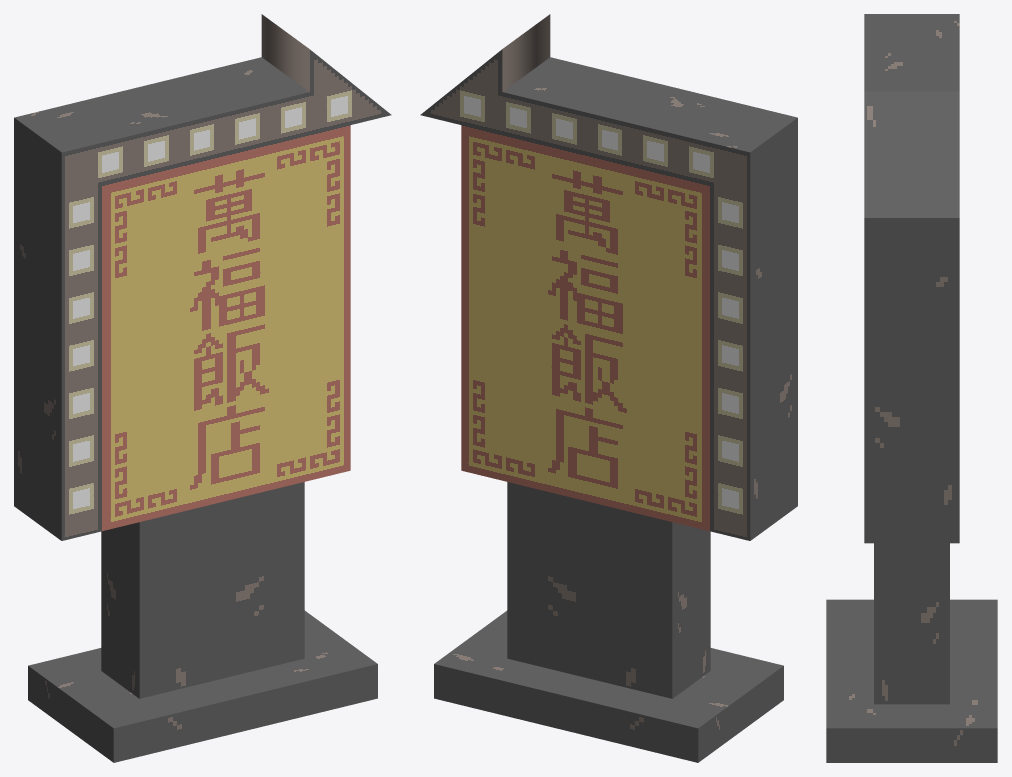
The model's file is 03c1_Ramen_Sign.glb.
The picture shows the model from 3 angles, left to right: view 1: azimuth 30°, elevation 25°; view 2: azimuth 150°, elevation 25°; view 3: azimuth 270°, elevation 25°; orthographic projection.
Parts seen in each view (by area): view 1: part_0; view 2: part_0; view 3: part_0.
Boxes of the visible parts, box(x1,y1,x2,y2) form: part_0: box(14, 14, 391, 762); part_0: box(420, 14, 797, 762); part_0: box(826, 14, 997, 762).
Bounding box in the file's own units: 0.8 × 1.5 × 0.36.
Materials: 1 (1 with a texture image).
